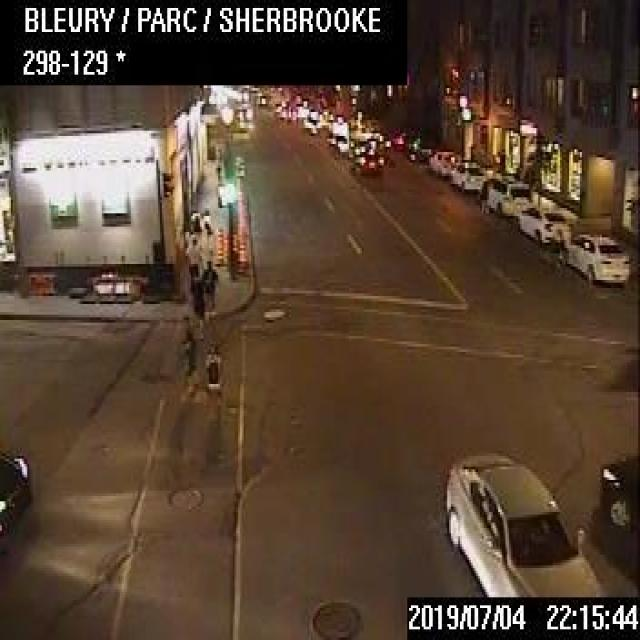construction: (236, 233, 246, 273), (214, 224, 223, 264), (222, 233, 229, 264), (230, 228, 236, 260)
pedestrian: (179, 312, 197, 395), (184, 236, 202, 292), (204, 340, 219, 399), (202, 258, 216, 318), (190, 276, 202, 339), (479, 179, 488, 214)
vehicle: (442, 450, 604, 595), (558, 231, 629, 283), (0, 443, 31, 557), (600, 448, 638, 533), (516, 204, 570, 244), (481, 175, 529, 215), (450, 158, 484, 189), (349, 146, 383, 174), (427, 148, 456, 175)
